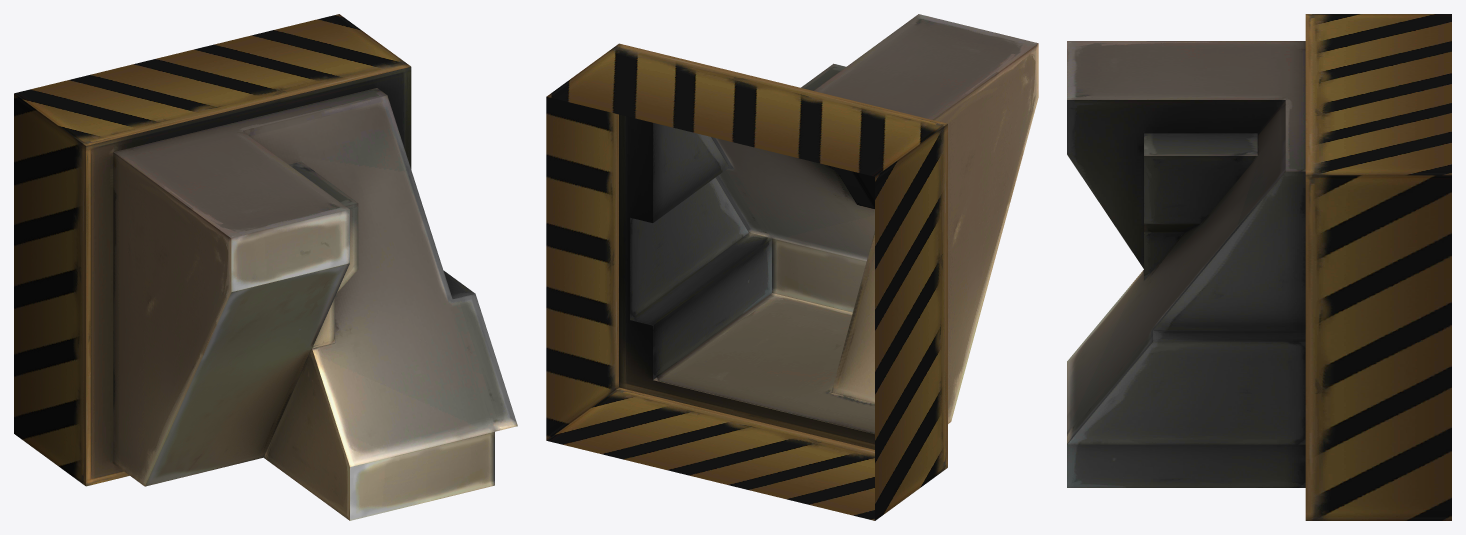
The model's file is trap_097_hstone.glb.
3 views of the same model, side by side, from view 1: azimuth 30°, elevation 25°; view 2: azimuth 150°, elevation 25°; view 3: azimuth 270°, elevation 25° (orthographic).
Parts seen in each view (by area): view 1: S_yumen_stonewall; view 2: S_yumen_stonewall; view 3: S_yumen_stonewall.
Boxes of the visible parts, box(x1,y1,x2,y2) form: S_yumen_stonewall: box(14, 14, 517, 520); S_yumen_stonewall: box(546, 14, 1038, 520); S_yumen_stonewall: box(1067, 14, 1451, 520).
Bounding box in the file's own units: 0.8005 × 0.8005 × 0.8076.
Materials: 1 (1 with a texture image).
